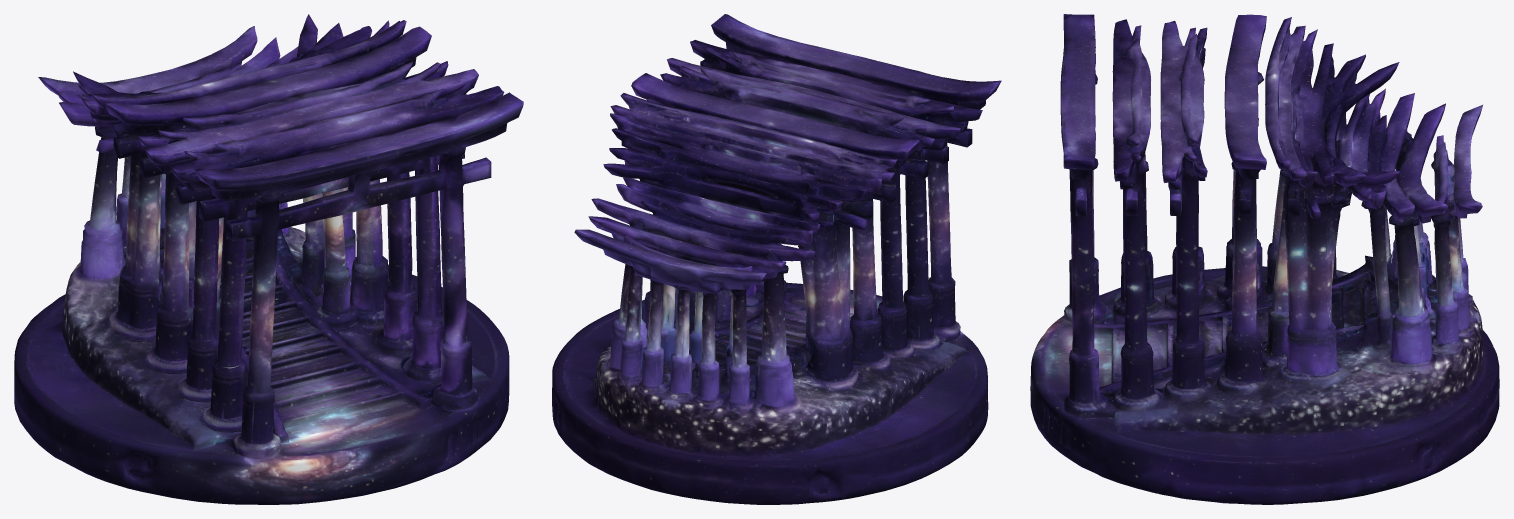
File: fushimi_inari_celestial.glb
The picture shows the model from 3 angles, left to right: view 1: azimuth 30°, elevation 25°; view 2: azimuth 150°, elevation 25°; view 3: azimuth 270°, elevation 25°; orthographic projection. The views are drawn at different scales.
Parts seen in each view (by area): view 1: Mesh_0; view 2: Mesh_0; view 3: Mesh_0.
Part boxes in pixels (x1,y1,x2,y2): Mesh_0: [14, 14, 523, 504]; Mesh_0: [552, 14, 1001, 504]; Mesh_0: [1030, 14, 1499, 504].
Size of the model in its own units: 1.91 by 1.44 by 1.91.
1 material, 1 textured.
